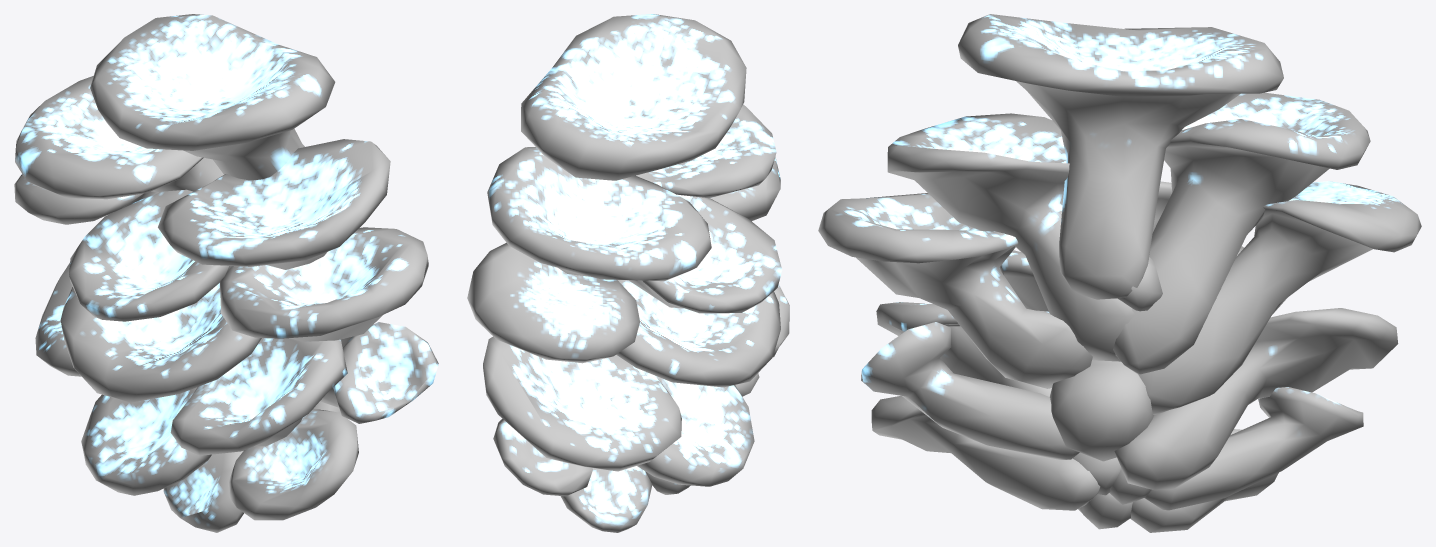
The model's file is SM_Mushroom_01.fbx.
3 renders of one model, left to right at view 1: azimuth 30°, elevation 25°; view 2: azimuth 150°, elevation 25°; view 3: azimuth 270°, elevation 25°, orthographic. The views are drawn at different scales.
Visible parts, largest first — view 1: SM_Mushroom_01; view 2: SM_Mushroom_01; view 3: SM_Mushroom_01.
Part boxes in pixels (box(x1,y1,x2,y2)): SM_Mushroom_01: box(14, 14, 438, 532); SM_Mushroom_01: box(467, 14, 789, 532); SM_Mushroom_01: box(818, 14, 1421, 532).
Bounding box in the file's own units: 35.28 × 61.98 × 57.08.
